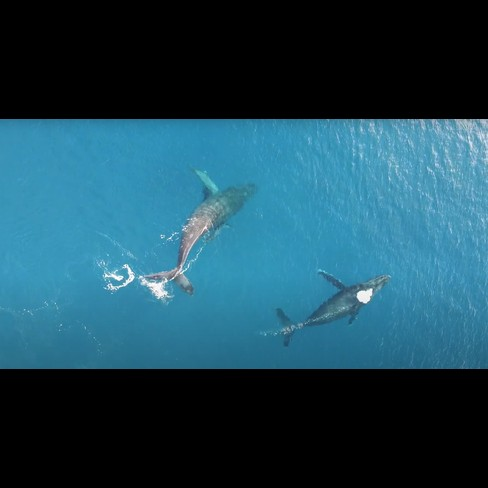hump: (139, 160, 263, 299), (271, 265, 395, 353)
